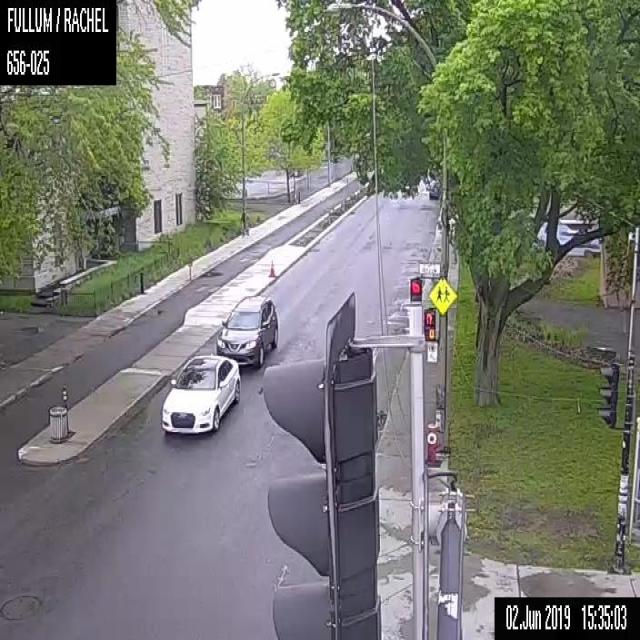construction: (268, 259, 275, 276)
vehicle: (160, 352, 240, 435), (215, 295, 278, 366), (428, 184, 439, 198)
